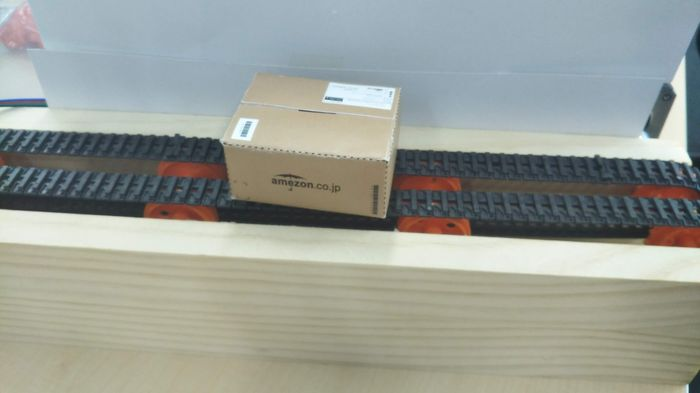box1: (217, 67, 402, 218)
